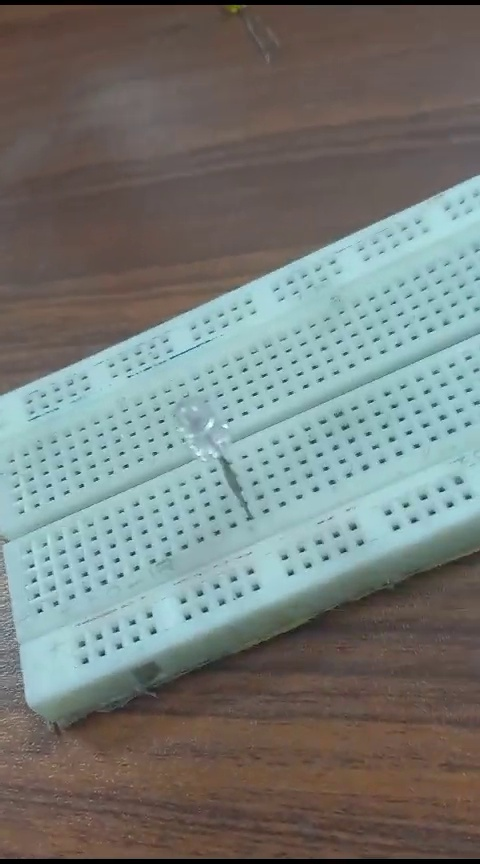LED: (160, 392, 260, 517)
